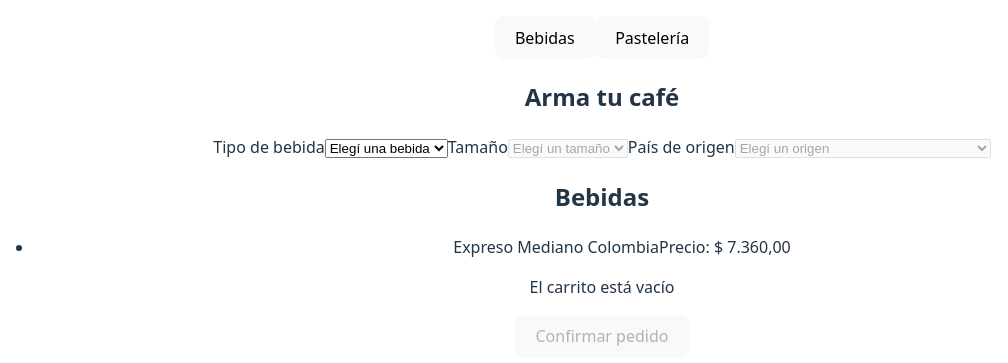
Test: Menu › separa bebidas y pastelería al cambiar de categoría
This screenshot has width=1008, height=363.
Check: the text "Expreso Mediano Colombia" is shown, box [453,236,659,258]
Click the button "Pastelería": (652, 38) [595,16,709,59]
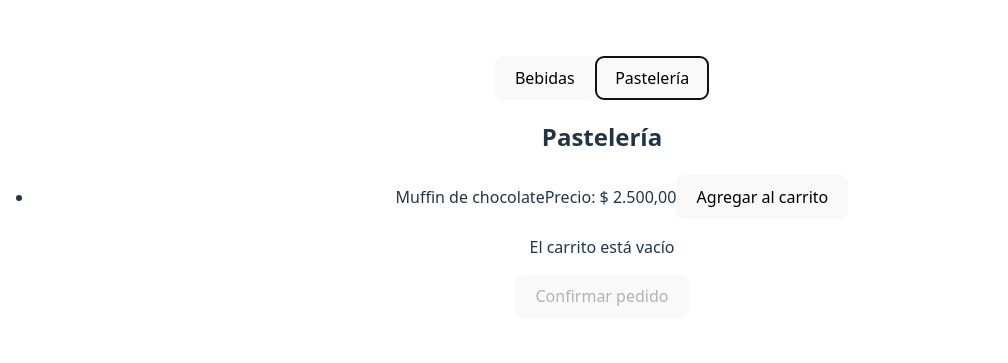
Check: the text "Muffin de chocolate" is shown, box [396,186,545,208]
Check: the text "Expreso Mediano Colombia" is gone
Check: the label labelled "Tipo de bebida" is gone
Click the button "Bebidas": (545, 78) [495,56,595,100]
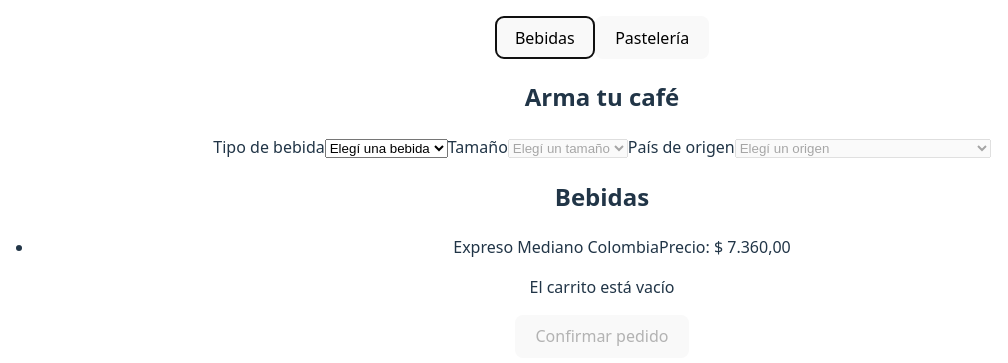
Check: the text "Expreso Mediano Colombia" is shown, box [453,236,659,258]
Check: the text "Muffin de chocolate" is gone
